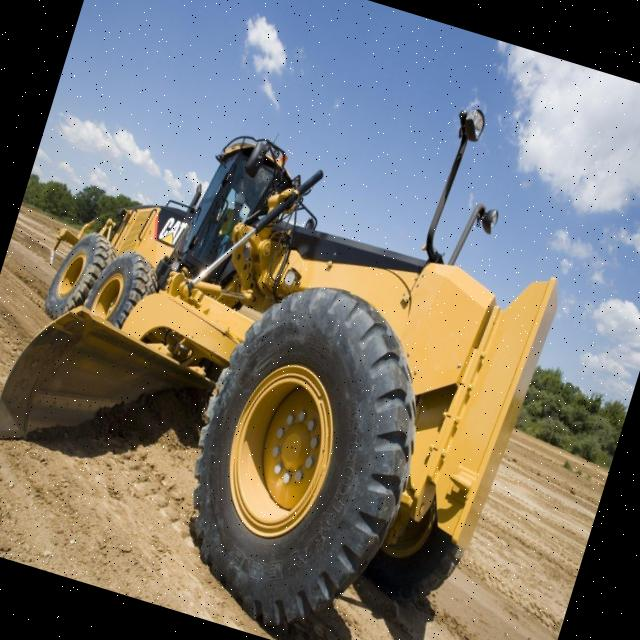Grader: (0, 66, 597, 640)
